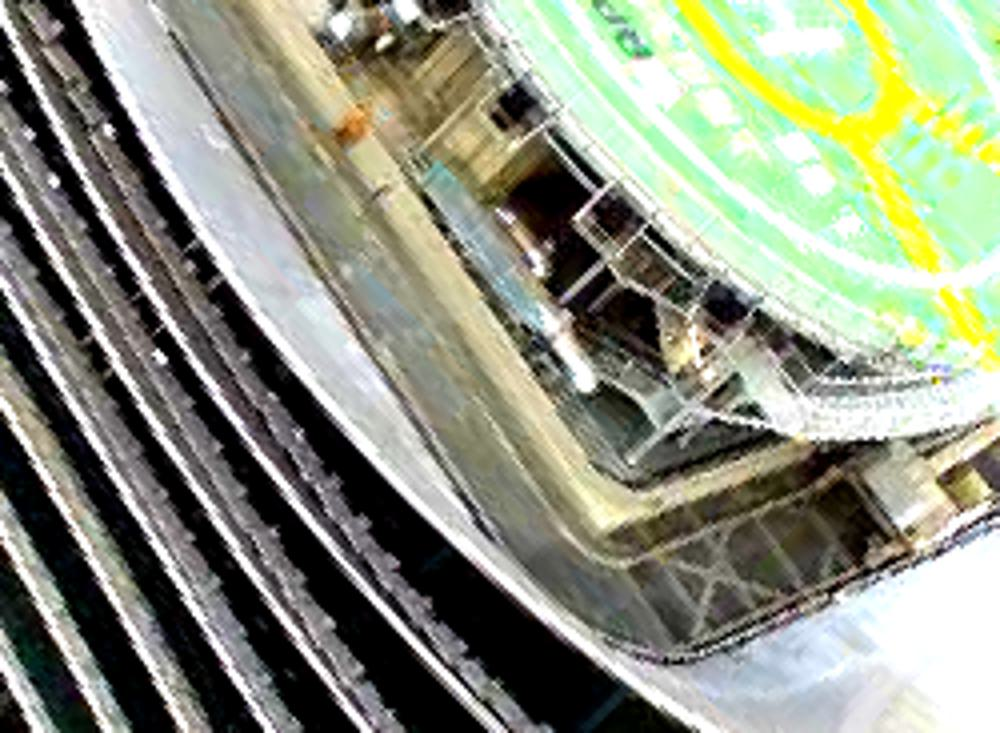Apron: (669, 2, 909, 147)
